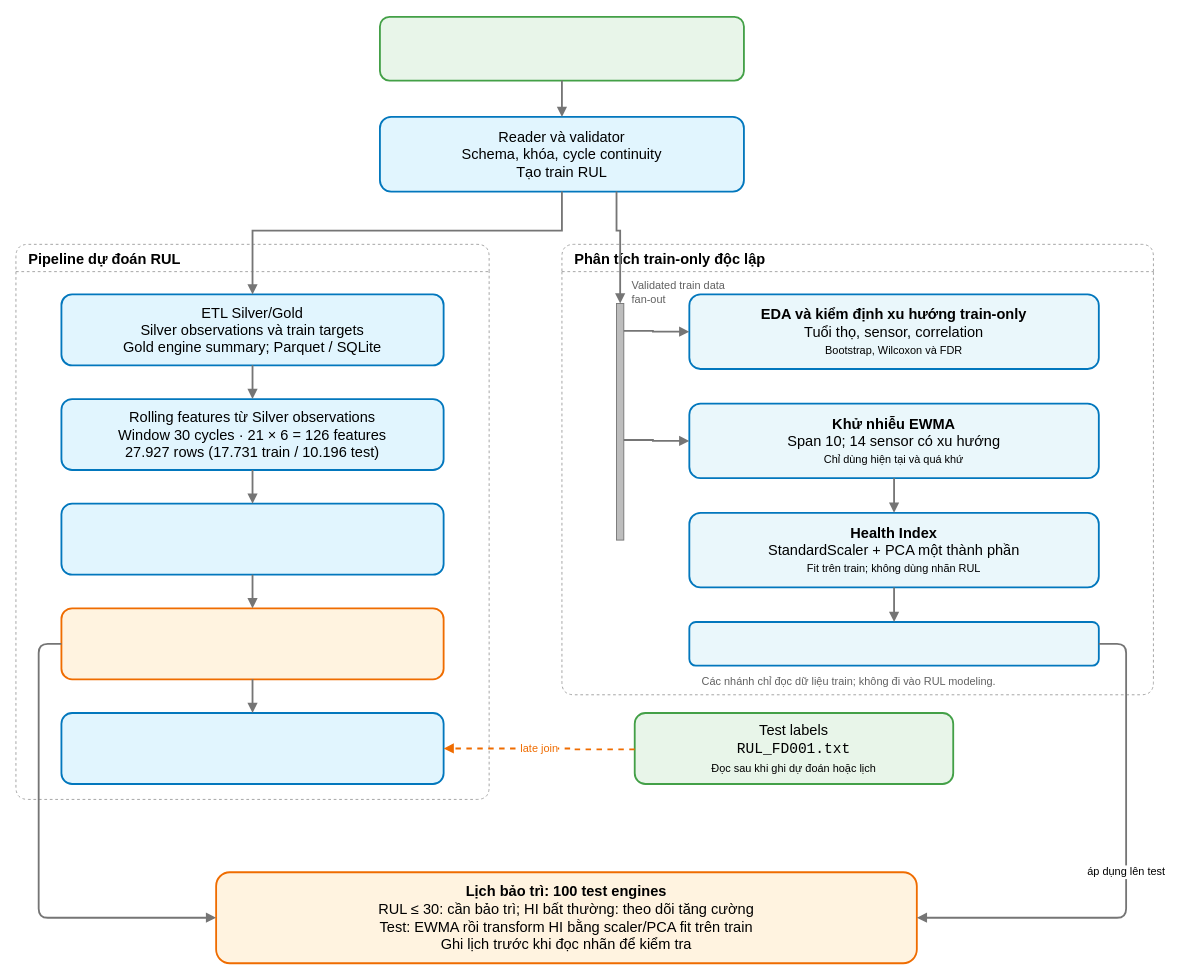
The diagram is 1180 pixels wide and 979 high, and some of its shapes have lost their labels. Here are the shapes that lost their labels. From the top down, the centre of each, then its label:
At point (561, 48): "FD001 raw / Bronze Train và test observations".
At point (252, 538): "Grouped RUL modeling 5-fold GroupKFold OOF: chọn model và warning 30 cycles".
At point (252, 643): "Final predictions Ghi 100 dự đoán test trước khi đọc nhãn".
At point (893, 643): "Bất thường / cảnh báo mức 1 z ≤ −3 trong 5 cycles liên tiếp".
At point (252, 748): "Final evaluation Join predictions + test labels MAE · RMSE · NASA score".
